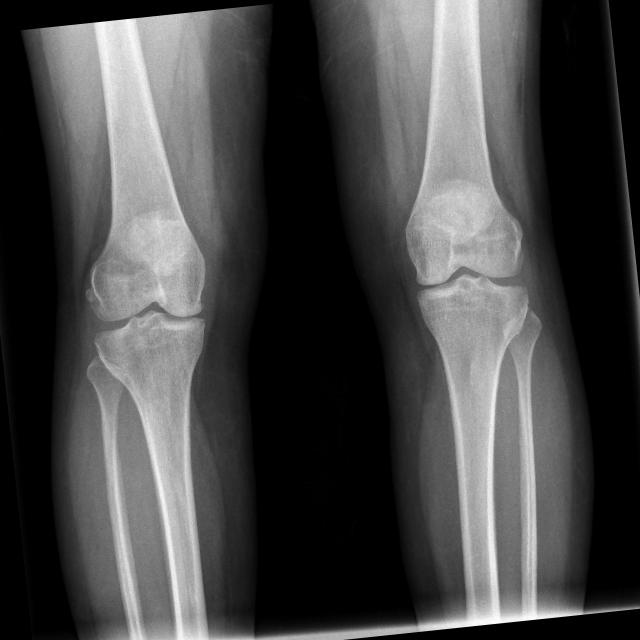Knee: (403, 215, 536, 342), (84, 252, 219, 370)
